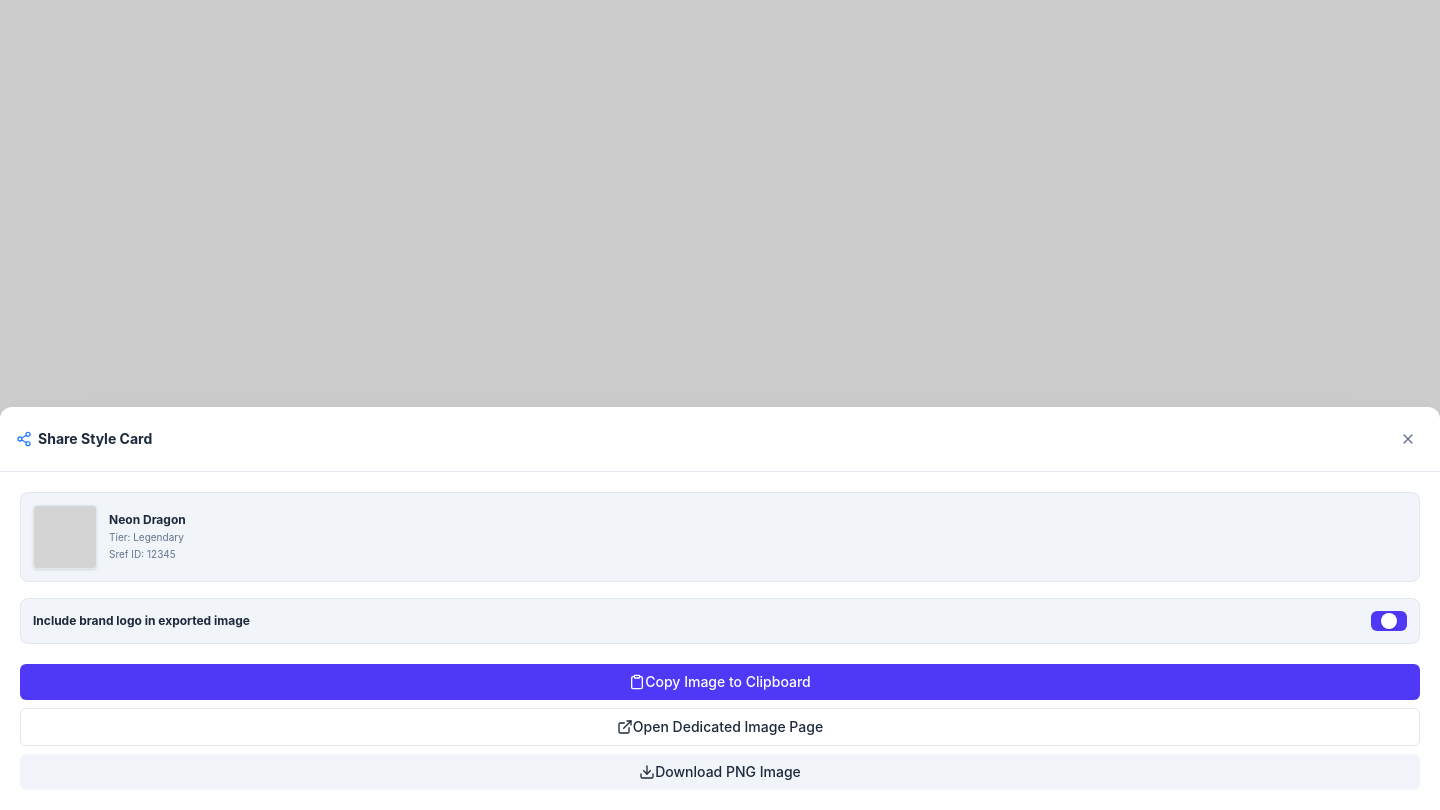
Test case: ShareCardModal › displays error message if copy to clipboard fails
What coordinates should you click on to do the following:
click the button with test id "share-copy-button"
I would click on:
 (720, 682)
Its box is [20, 664, 1420, 700].
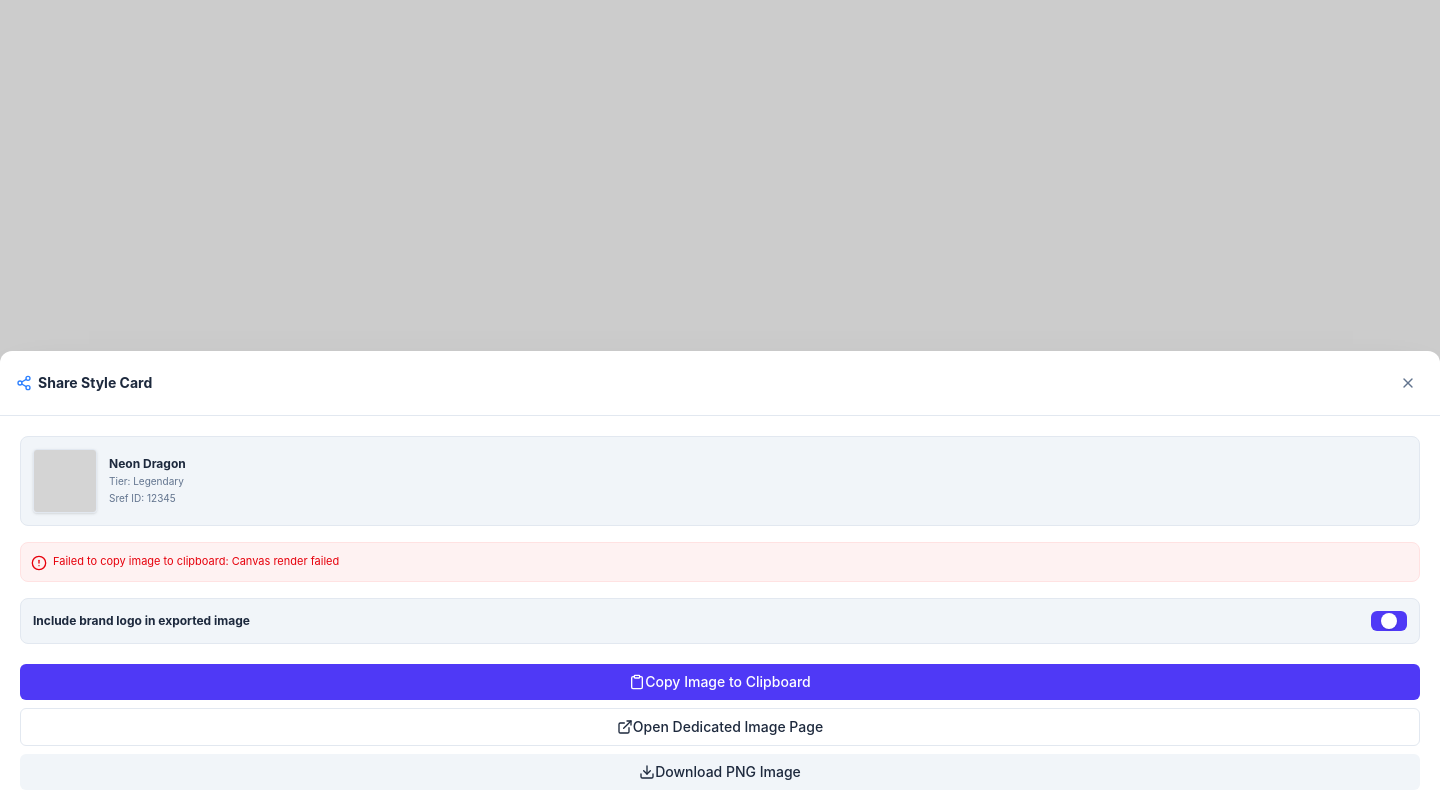
expect the text "Failed to copy image to clipboard: Canvas render failed" is shown: met, box [53, 553, 339, 570]
